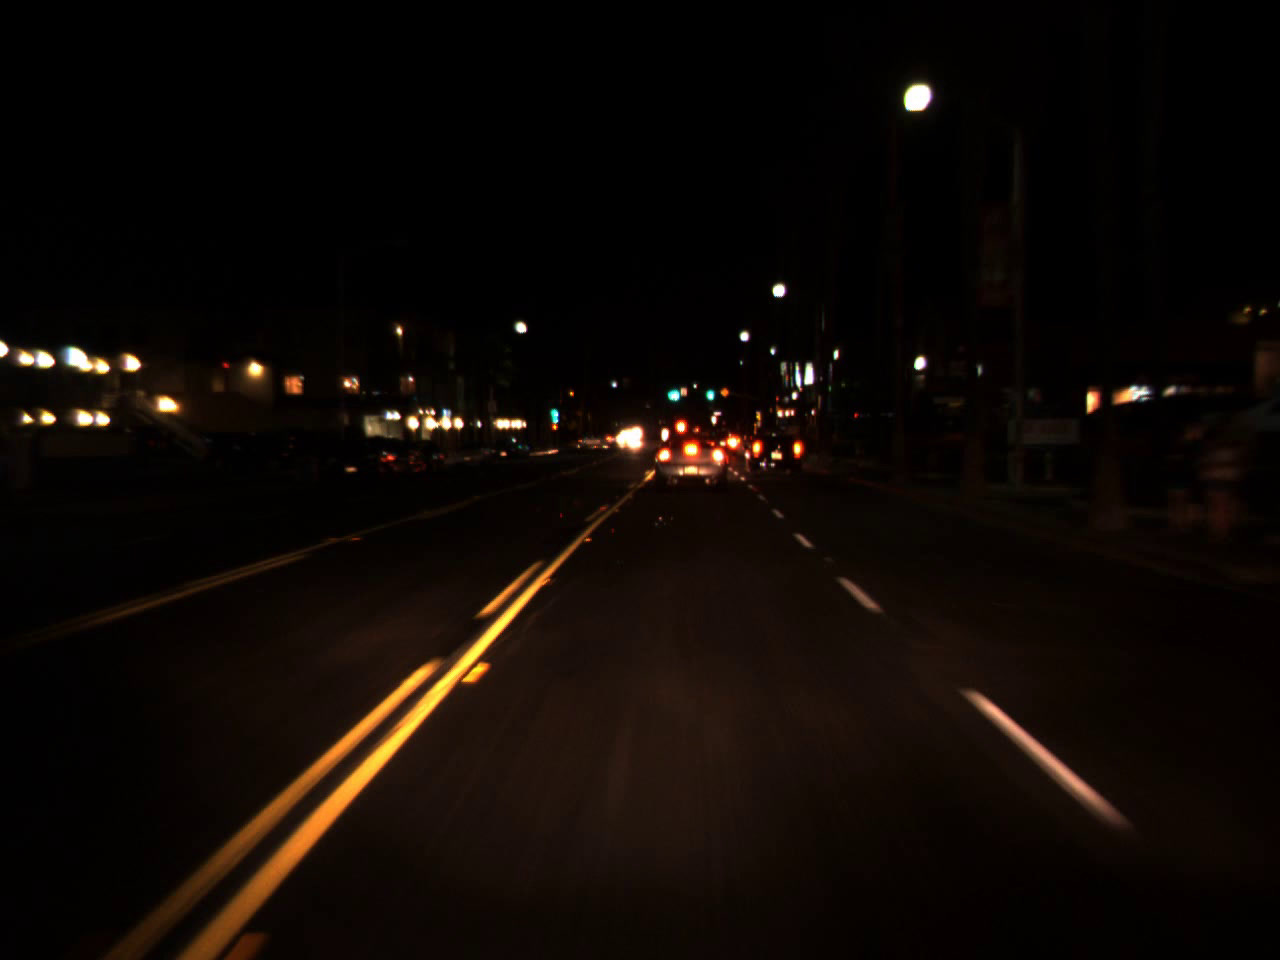go: (662, 379, 681, 403), (549, 392, 559, 428), (705, 379, 715, 403)
